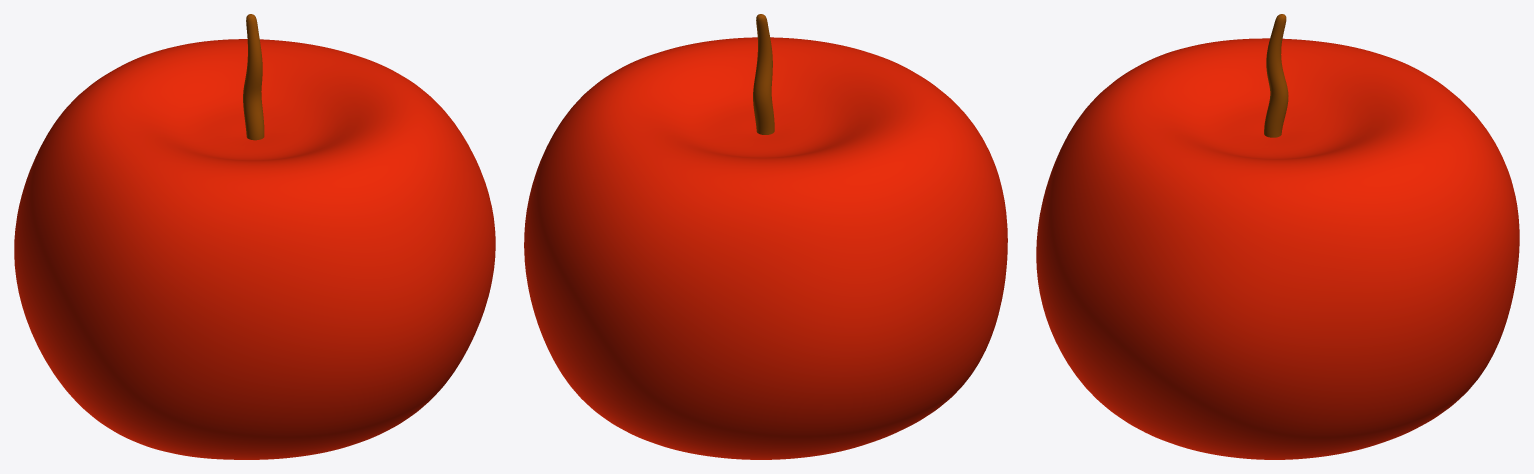
File: Apple.fbx
3 renders of one model, left to right at view 1: azimuth 30°, elevation 25°; view 2: azimuth 150°, elevation 25°; view 3: azimuth 270°, elevation 25°, orthographic.
Visible parts, largest first — view 1: Sphere; view 2: Sphere; view 3: Sphere.
Part boxes in pixels (box(x1,y1,x2,y2)): Sphere: box(14, 14, 495, 459); Sphere: box(524, 14, 1007, 459); Sphere: box(1036, 14, 1519, 459).
Bounding box in the file's own units: 200 × 181 × 202.
